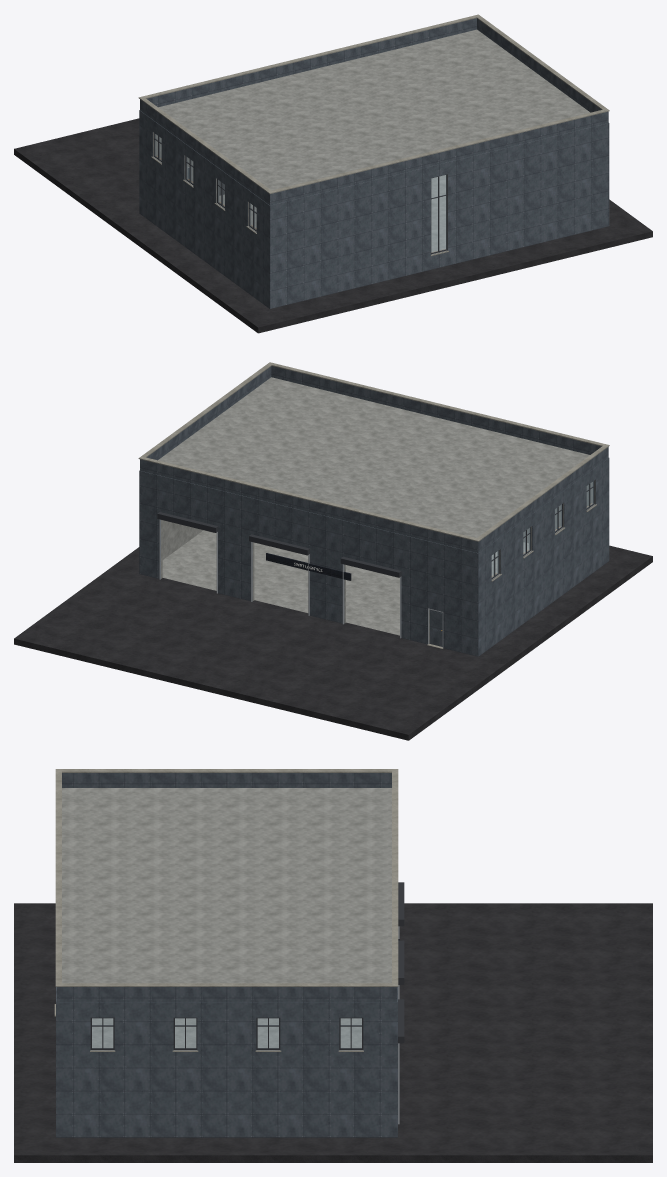
The model's file is b_logistics_warehouse.gltf.
3 renders of one model, top to bottom at view 1: azimuth 30°, elevation 25°; view 2: azimuth 150°, elevation 25°; view 3: azimuth 270°, elevation 25°, orthographic. The views are drawn at different scales.
Visible parts, largest first — view 1: S_logistics_warehouse; view 2: S_logistics_warehouse; view 3: S_logistics_warehouse.
Part boxes in pixels (x1=…): S_logistics_warehouse: x1=14, y1=14, x2=652, y2=333; S_logistics_warehouse: x1=14, y1=362, x2=652, y2=740; S_logistics_warehouse: x1=14, y1=769, x2=652, y2=1162.
Bounding box in the file's own units: 28 × 8.26 × 30.
14 materials, 7 textured.
